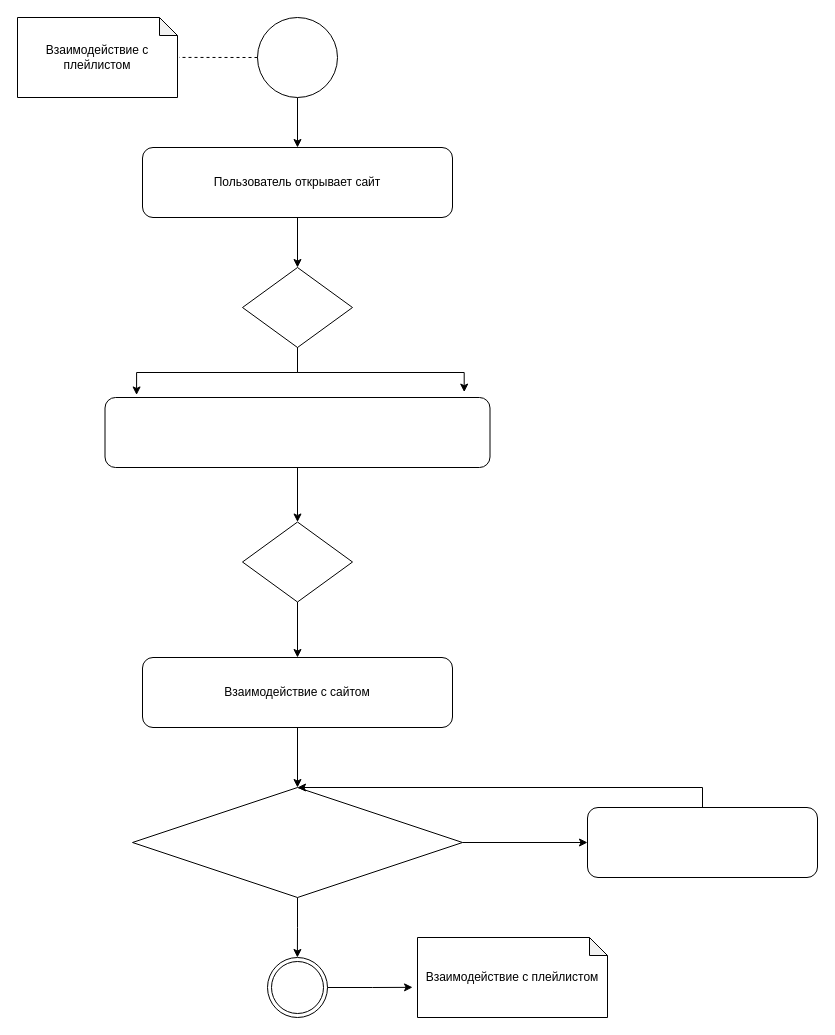
This 835x1035 diagram has some shape labels left out. The centre of each missing label's shape, as x and y in pixels:
"Просмотр главной страницы Просмотр каталога" belongs at pixel 297 432.
"Техническая проблема" belongs at pixel 702 842.
